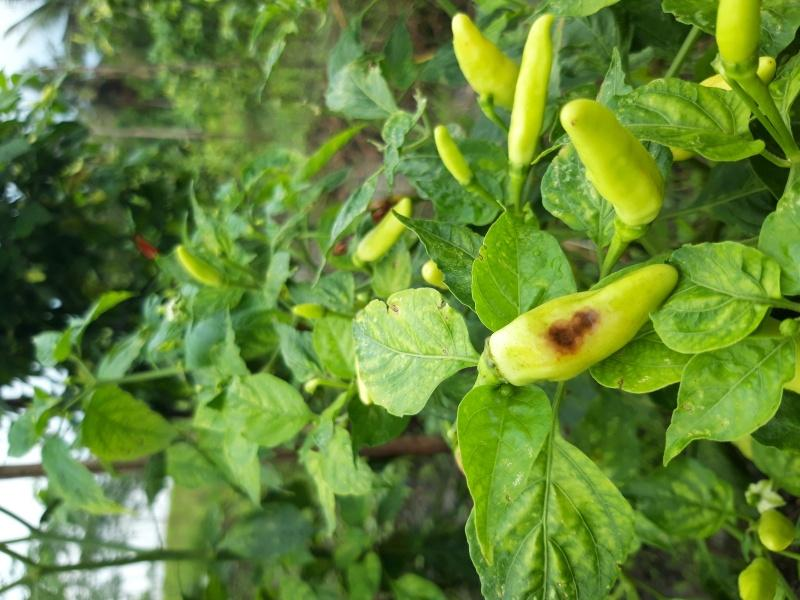antraknosa: (484, 259, 686, 385)
cabai_normal: (556, 89, 666, 230), (504, 8, 556, 182), (452, 13, 520, 112), (356, 196, 411, 260), (434, 126, 474, 188)
